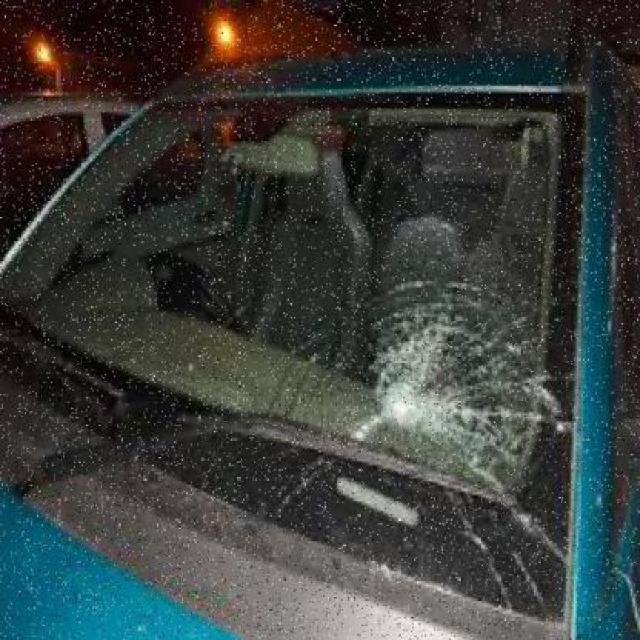Front-Windscreen-Damage: (8, 99, 597, 637)
